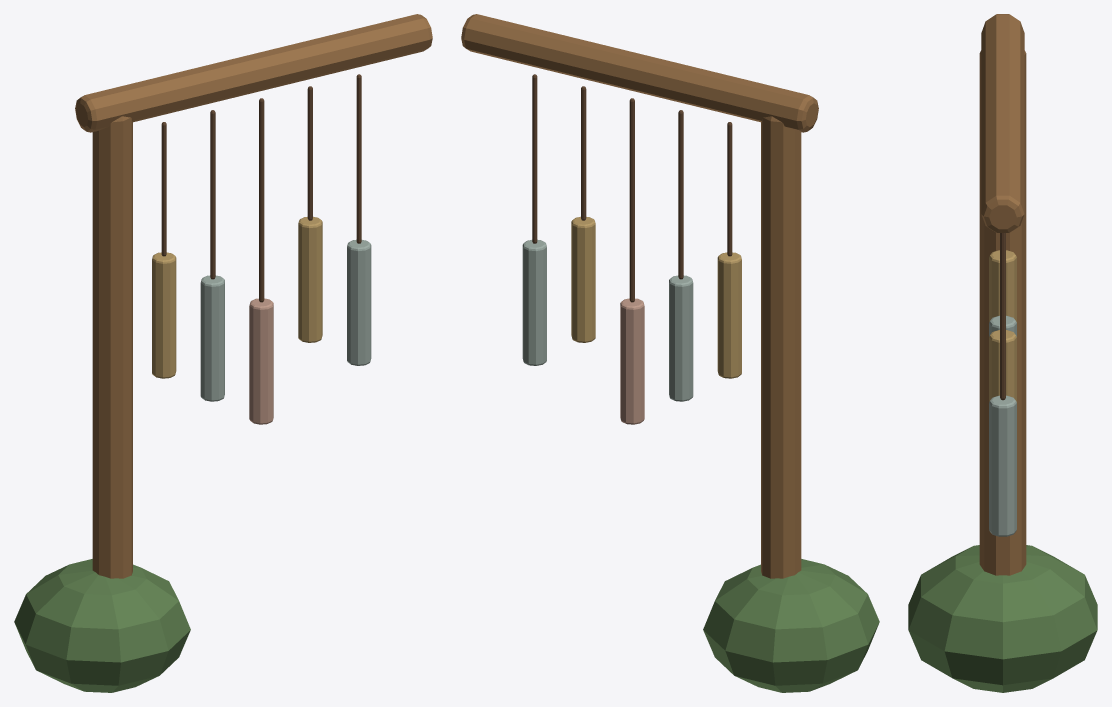
Rendered from wind-chime.glb.
The picture shows the model from 3 angles, left to right: view 1: azimuth 30°, elevation 25°; view 2: azimuth 150°, elevation 25°; view 3: azimuth 270°, elevation 25°; orthographic projection. The views are drawn at different scales.
Parts seen in each view (by area): view 1: wind-chime_Discovery_Mesh, discovery_Motion.007_Mesh; view 2: wind-chime_Discovery_Mesh, discovery_Motion.007_Mesh; view 3: wind-chime_Discovery_Mesh, discovery_Motion.007_Mesh.
Part boxes in pixels (left/top/right/bottom): wind-chime_Discovery_Mesh: left=14, top=14, right=432, bottom=692; discovery_Motion.007_Mesh: left=152, top=74, right=371, bottom=424; wind-chime_Discovery_Mesh: left=461, top=14, right=879, bottom=692; discovery_Motion.007_Mesh: left=522, top=74, right=741, bottom=424; wind-chime_Discovery_Mesh: left=908, top=14, right=1097, bottom=692; discovery_Motion.007_Mesh: left=989, top=233, right=1016, bottom=536.
Bounding box in the file's own units: 1.56 × 2.19 × 0.5706.
